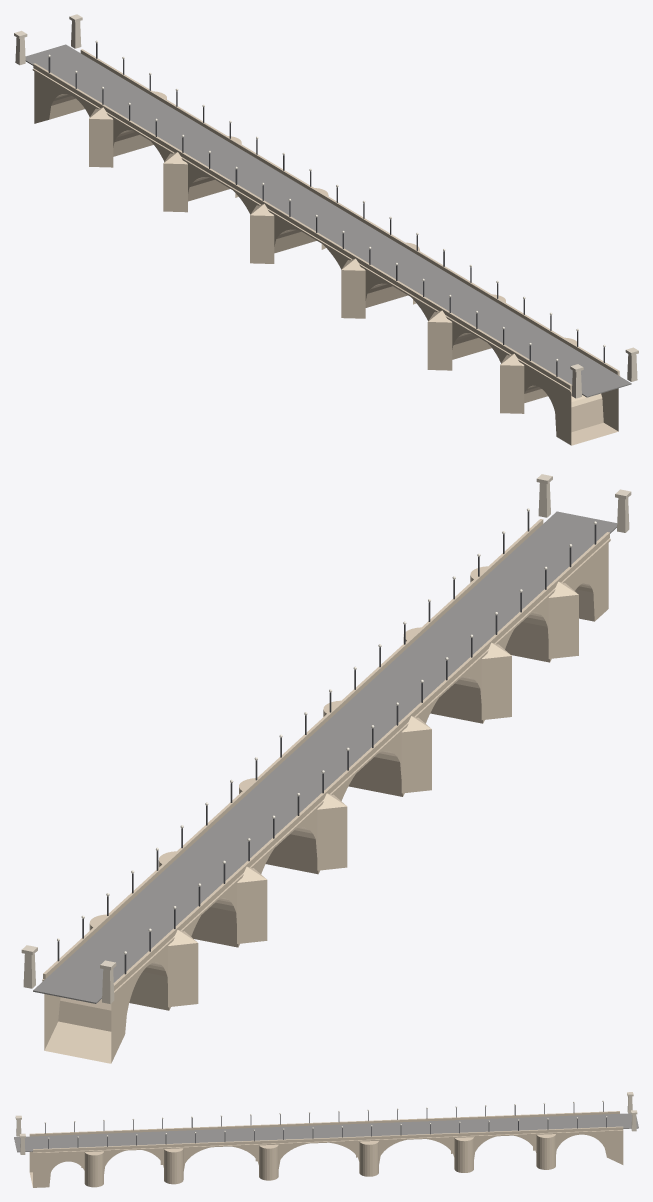
File: puente.glb
The picture shows the model from 3 angles, top to bottom: view 1: azimuth 30°, elevation 25°; view 2: azimuth 150°, elevation 25°; view 3: azimuth 270°, elevation 25°; orthographic projection. The views are drawn at different scales.
Visible parts, largest first — view 1: BridgeRoad, BridgeBody, Parapet-1, Parapet1, Cornice-1, Tajamar1, Tajamar0, Tajamar5, Tajamar2, Tajamar4, Tajamar3; view 2: BridgeRoad, BridgeBody, Parapet-1, Parapet1, Tajamar2, Tajamar3, Tajamar1, Tajamar4, Tajamar5, Tajamar0, Cornice-1; view 3: BridgeRoad, BridgeBody, Parapet1, Parapet-1, Cornice1, Espolon0, Espolon1, Espolon5, Espolon2, Espolon4, Espolon3.
Boxes of the visible parts, x1,y1,x2,y2 form: BridgeRoad: (25,44,631,397); BridgeBody: (34,71,618,445); Parapet-1: (33,63,572,389); Parapet1: (80,49,619,375); Cornice-1: (32,68,571,391); Tajamar1: (427,310,452,370); Tajamar0: (500,353,524,413); Tajamar5: (89,107,113,167); Tajamar2: (341,258,365,318); Tajamar4: (163,152,187,212); Tajamar3: (250,204,274,263); BridgeRoad: (33,511,617,1003); BridgeBody: (44,543,608,1063); Parapet-1: (113,532,609,990); Parapet1: (43,519,543,979); Tajamar2: (401,716,431,793); Tajamar3: (317,793,347,870); Tajamar1: (481,642,511,719); Tajamar4: (237,866,267,943); Tajamar5: (168,930,198,1007); Tajamar0: (548,581,578,658); Cornice-1: (114,538,610,994); BridgeRoad: (14,1113,638,1152); BridgeBody: (29,1130,623,1187); Parapet1: (33,1126,623,1152); Parapet-1: (29,1111,619,1136); Cornice1: (33,1130,623,1153); Espolon0: (84,1151,103,1187); Espolon1: (164,1148,183,1184); Espolon5: (536,1134,555,1169); Espolon2: (259,1144,278,1180); Espolon4: (454,1137,473,1172); Espolon3: (359,1141,378,1176).
Bounding box in the file's own units: 39.97 × 22.9 × 237.
